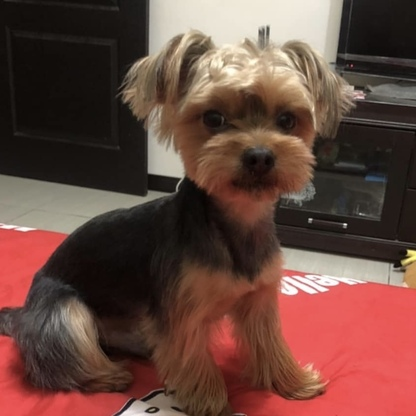yokshine: (6, 27, 366, 412)
